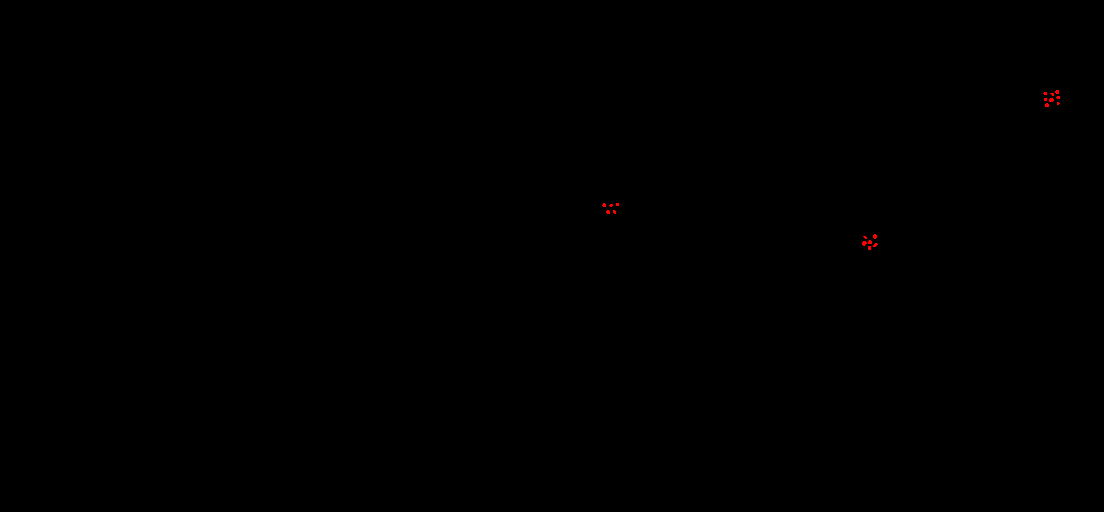Target: (862, 241, 867, 246), (1049, 98, 1054, 102), (873, 234, 877, 239), (873, 243, 878, 247), (1055, 90, 1059, 94), (1045, 103, 1049, 107), (602, 203, 606, 207), (606, 210, 610, 214), (868, 240, 872, 244), (1043, 92, 1047, 95), (1050, 93, 1054, 96), (1056, 96, 1060, 99), (609, 204, 613, 207), (613, 210, 616, 214), (863, 236, 867, 239), (868, 246, 871, 250), (1044, 98, 1047, 101), (1057, 102, 1060, 105), (616, 203, 619, 206)
